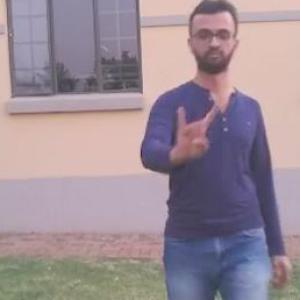takeoff-hand: (169, 97, 218, 160)
